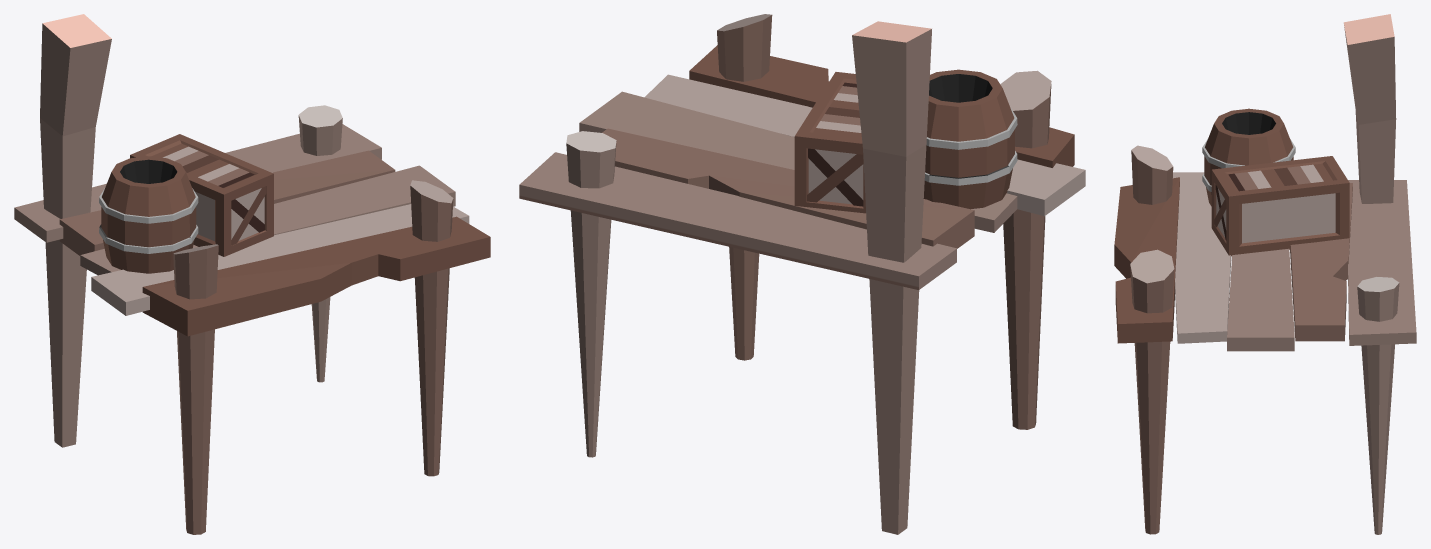
Rendered from Building_010.glb.
3 views of the same model, side by side, from view 1: azimuth 30°, elevation 25°; view 2: azimuth 150°, elevation 25°; view 3: azimuth 270°, elevation 25° (orthographic). The views are drawn at different scales.
Parts seen in each view (by area): view 1: Building_010; view 2: Building_010; view 3: Building_010.
Part boxes in pixels (x1,y1,x2,y2): Building_010: (14, 14, 490, 534); Building_010: (519, 14, 1085, 534); Building_010: (1114, 14, 1416, 534).
Size of the model in its own units: 5.28 by 5.91 by 4.07.
Materials: 1 (1 with a texture image).
